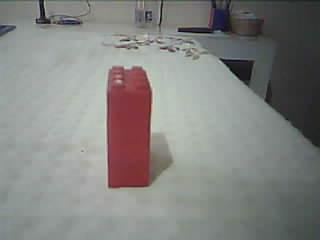lego: (104, 64, 151, 188)
